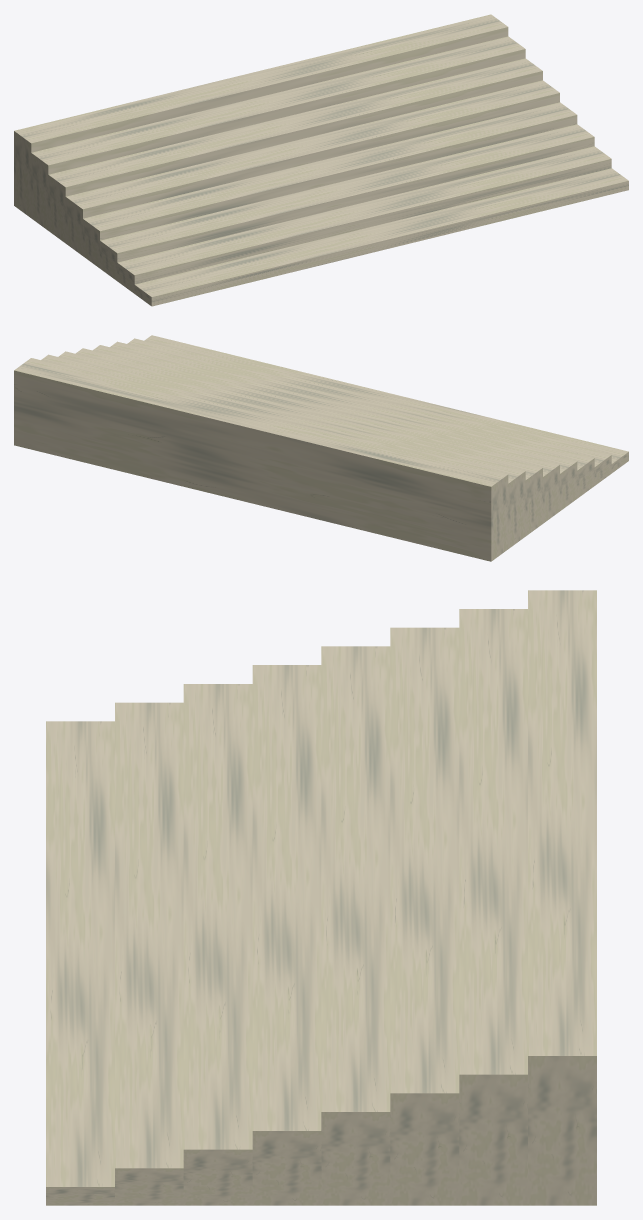
Rendered from Stairs8.fbx.
The picture shows the model from 3 angles, top to bottom: view 1: azimuth 30°, elevation 25°; view 2: azimuth 150°, elevation 25°; view 3: azimuth 270°, elevation 25°; orthographic projection. The views are drawn at different scales.
Visible parts, largest first — view 1: Stairs8; view 2: Stairs8; view 3: Stairs8.
Boxes of the visible parts, bbox=[...] form: Stairs8: bbox=[14, 14, 628, 306]; Stairs8: bbox=[14, 335, 628, 561]; Stairs8: bbox=[46, 590, 596, 1205].
Bounding box in the file's own units: 800 × 120 × 400.
1 material, 1 textured.
